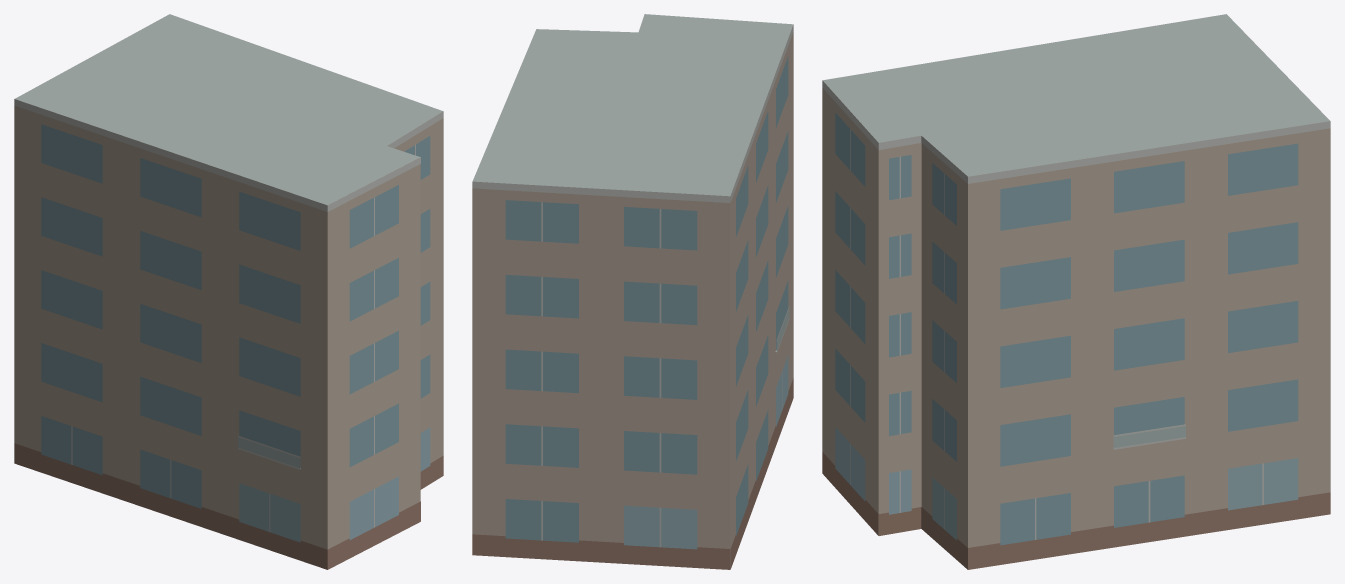
Rendered from survey-upis-32856930.glb.
The picture shows the model from 3 angles, left to right: view 1: azimuth 30°, elevation 25°; view 2: azimuth 150°, elevation 25°; view 3: azimuth 270°, elevation 25°; orthographic projection. The views are drawn at different scales.
Visible parts, largest first — view 1: survey-upis-32856930.tmp; view 2: survey-upis-32856930.tmp; view 3: survey-upis-32856930.tmp.
Part boxes in pixels (x1,y1,x2,y2): survey-upis-32856930.tmp: (14,14,443,569); survey-upis-32856930.tmp: (472,14,793,569); survey-upis-32856930.tmp: (822,14,1330,569).
Bounding box in the file's own units: 11.91 × 13.4 × 15.71.
